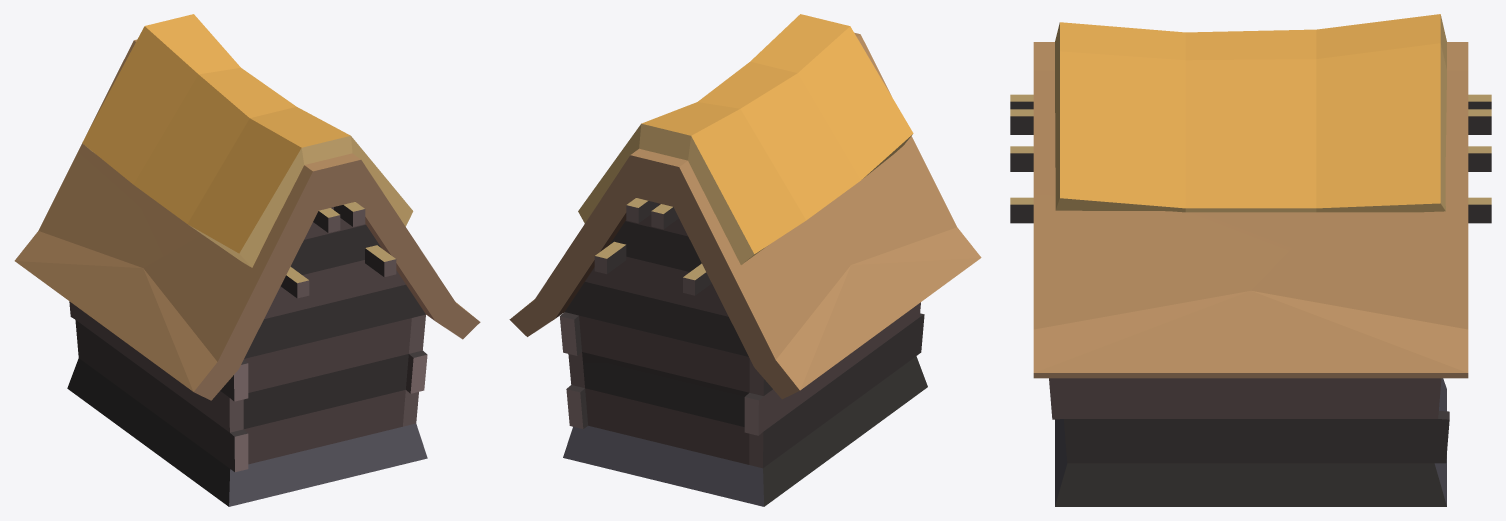
Rendered from cottage_c.glb.
3 renders of one model, left to right at view 1: azimuth 30°, elevation 25°; view 2: azimuth 150°, elevation 25°; view 3: azimuth 270°, elevation 25°, orthographic. The views are drawn at different scales.
Parts seen in each view (by area): view 1: TB_Bd_SWHouse; view 2: TB_Bd_SWHouse; view 3: TB_Bd_SWHouse.
Part boxes in pixels (x1,y1,x2,y2): TB_Bd_SWHouse: (14, 14, 480, 506); TB_Bd_SWHouse: (509, 14, 981, 506); TB_Bd_SWHouse: (1010, 14, 1491, 506).
Bounding box in the file's own units: 4.68 × 5.4 × 5.61.
Materials: 1 (1 with a texture image).
